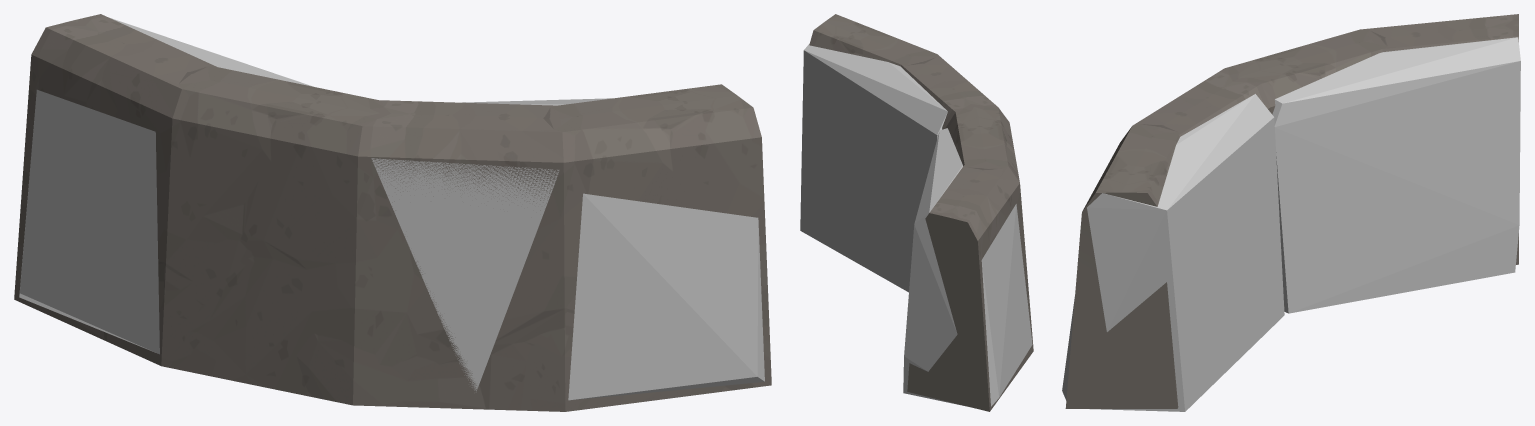
File: SM_Bld_House_Base_Wall_Curved_01.fbx
3 views of the same model, side by side, from view 1: azimuth 30°, elevation 25°; view 2: azimuth 150°, elevation 25°; view 3: azimuth 270°, elevation 25° (orthographic). The views are drawn at different scales.
Parts seen in each view (by area): view 1: SM_Bld_House_Base_Wall_Curved_01, SM_Bld_House_Base_Wall_Curved_01_ConvexHulls; view 2: SM_Bld_House_Base_Wall_Curved_01_ConvexHulls, SM_Bld_House_Base_Wall_Curved_01; view 3: SM_Bld_House_Base_Wall_Curved_01_ConvexHulls, SM_Bld_House_Base_Wall_Curved_01.
Boxes of the visible parts, x1,y1,x2,y2 form: SM_Bld_House_Base_Wall_Curved_01: (14, 14, 771, 411); SM_Bld_House_Base_Wall_Curved_01_ConvexHulls: (19, 17, 764, 400); SM_Bld_House_Base_Wall_Curved_01_ConvexHulls: (800, 43, 1032, 406); SM_Bld_House_Base_Wall_Curved_01: (809, 14, 1033, 411); SM_Bld_House_Base_Wall_Curved_01_ConvexHulls: (1062, 37, 1520, 411); SM_Bld_House_Base_Wall_Curved_01: (1065, 14, 1518, 408).
Bounding box in the file's own units: 289 × 289 × 153.
Materials: 2 (1 with a texture image).
